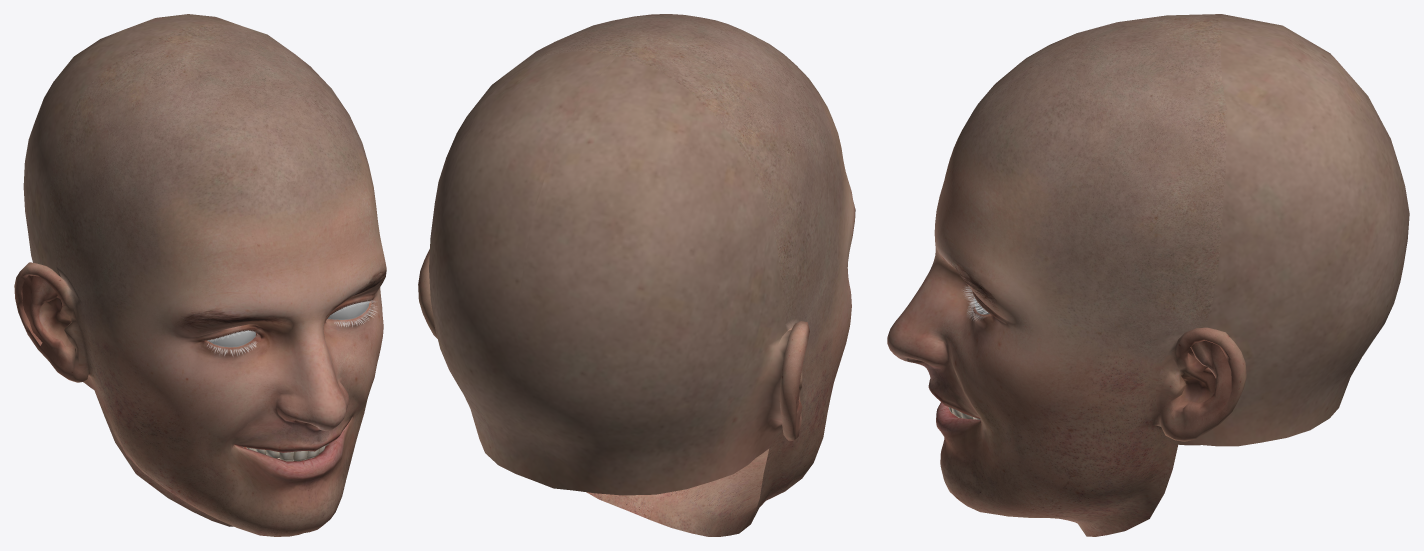
Rendered from Male.obj.
The picture shows the model from 3 angles, left to right: view 1: azimuth 30°, elevation 25°; view 2: azimuth 150°, elevation 25°; view 3: azimuth 270°, elevation 25°; orthographic projection. The views are drawn at different scales.
Parts seen in each view (by area): view 1: head, upperJaw, rEye, lEye; view 2: head; view 3: head.
Boxes of the visible parts, x1,y1,x2,y2 form: head: (14,14,386,536); upperJaw: (246,444,328,461); rEye: (207,330,255,347); lEye: (327,301,369,319); head: (418,14,855,536); head: (887,14,1409,536).
Size of the model in its own units: 18.04 by 24.01 by 22.76.
